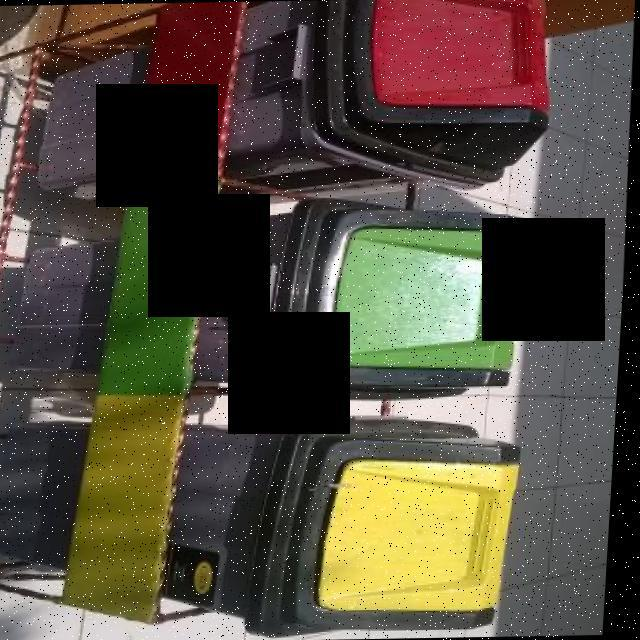bin: (0, 408, 541, 640), (9, 194, 541, 412), (19, 0, 576, 203)
